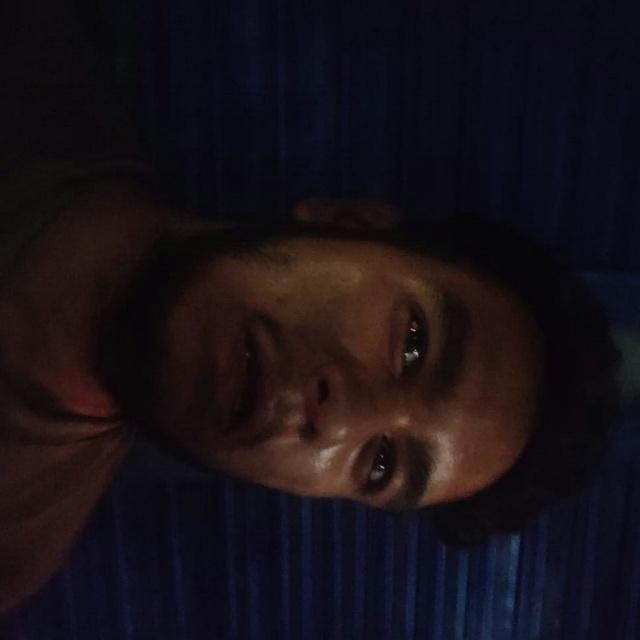Disgust: (140, 173, 529, 577)
